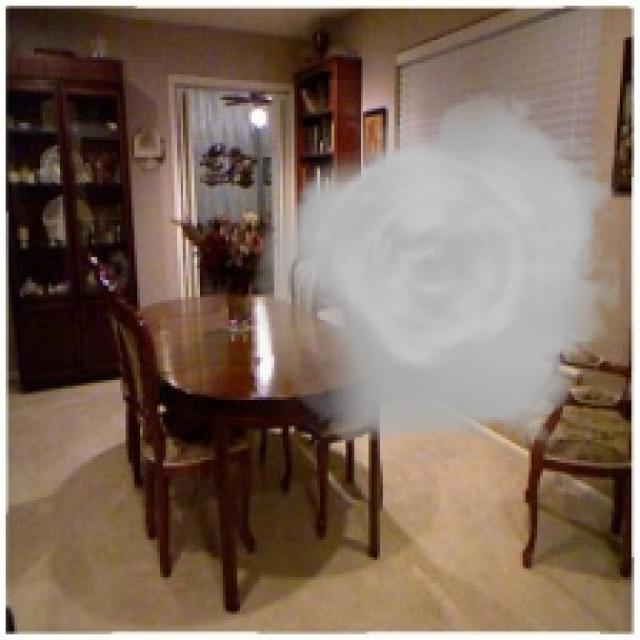smoke: (254, 80, 620, 463)
